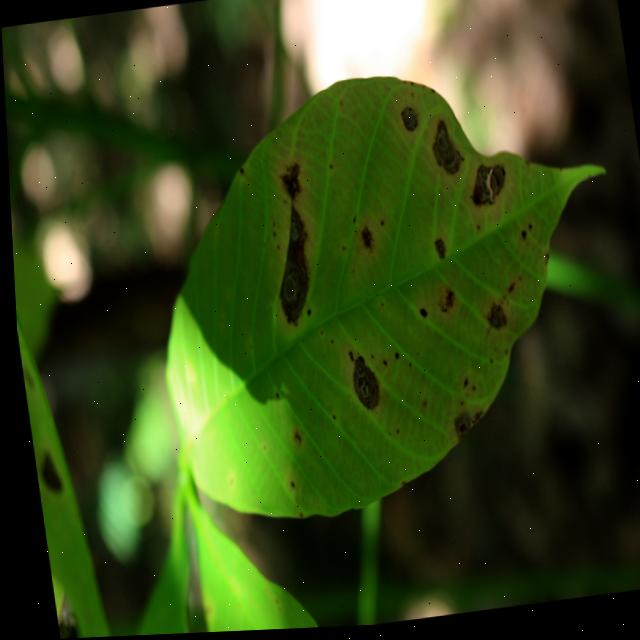Colletotrichum: (345, 357, 378, 414), (398, 110, 417, 136), (279, 279, 294, 302), (431, 242, 444, 262), (349, 361, 362, 381), (286, 224, 298, 243), (416, 312, 423, 321), (391, 355, 396, 362)
